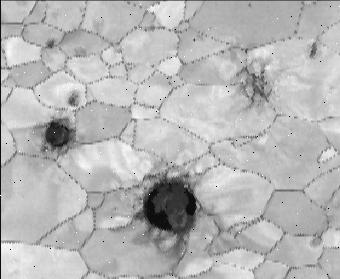good_void: (131, 172, 202, 258), (237, 60, 278, 111), (42, 119, 78, 155), (305, 234, 324, 250), (66, 93, 82, 109), (306, 40, 320, 58), (44, 36, 58, 50), (72, 46, 86, 57), (190, 34, 203, 45)
